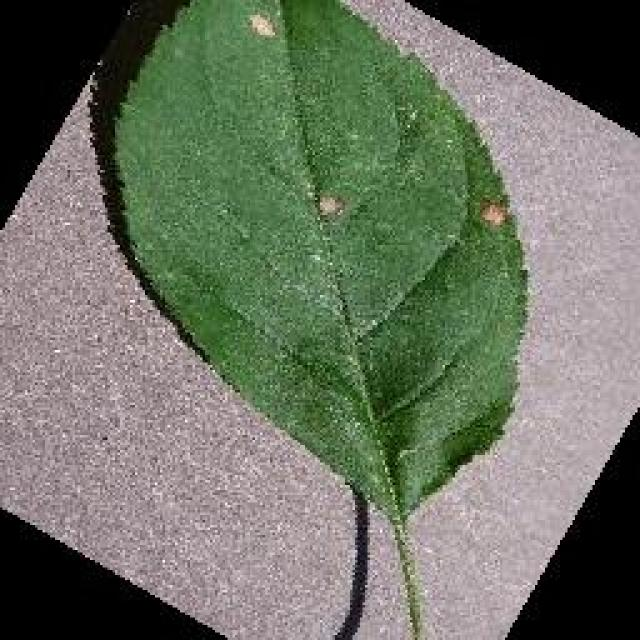Black_rot: (98, 0, 530, 528)
